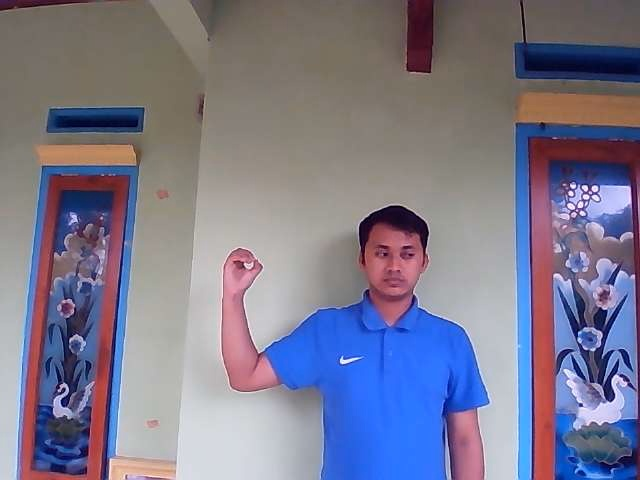O: (221, 248, 263, 294)
